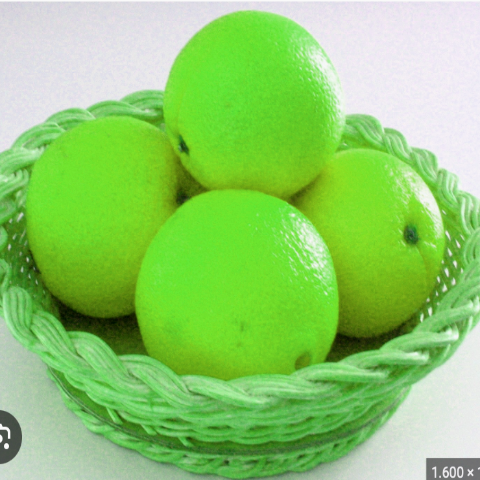orange: (129, 168, 354, 409), (4, 111, 200, 313), (151, 0, 345, 184), (283, 139, 461, 309)
